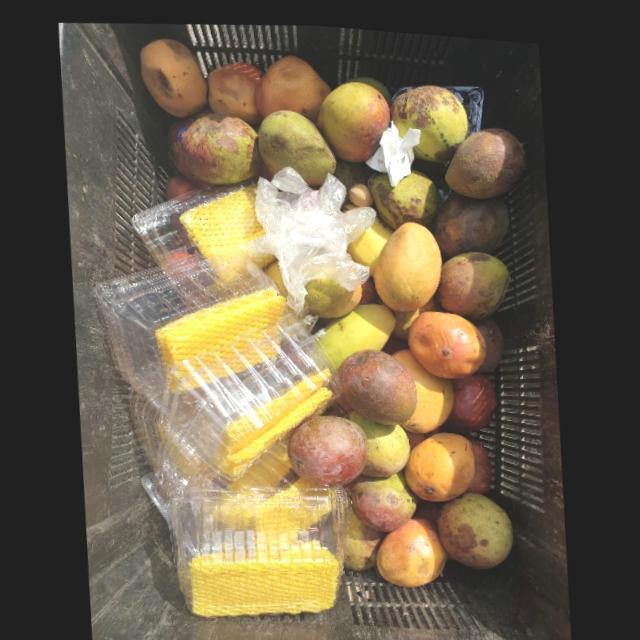paper: (365, 113, 421, 180)
plastic_bag: (248, 162, 377, 308)
plastic_container: (92, 241, 316, 394), (158, 316, 345, 477), (133, 384, 315, 517), (174, 480, 350, 612), (135, 173, 273, 269)
